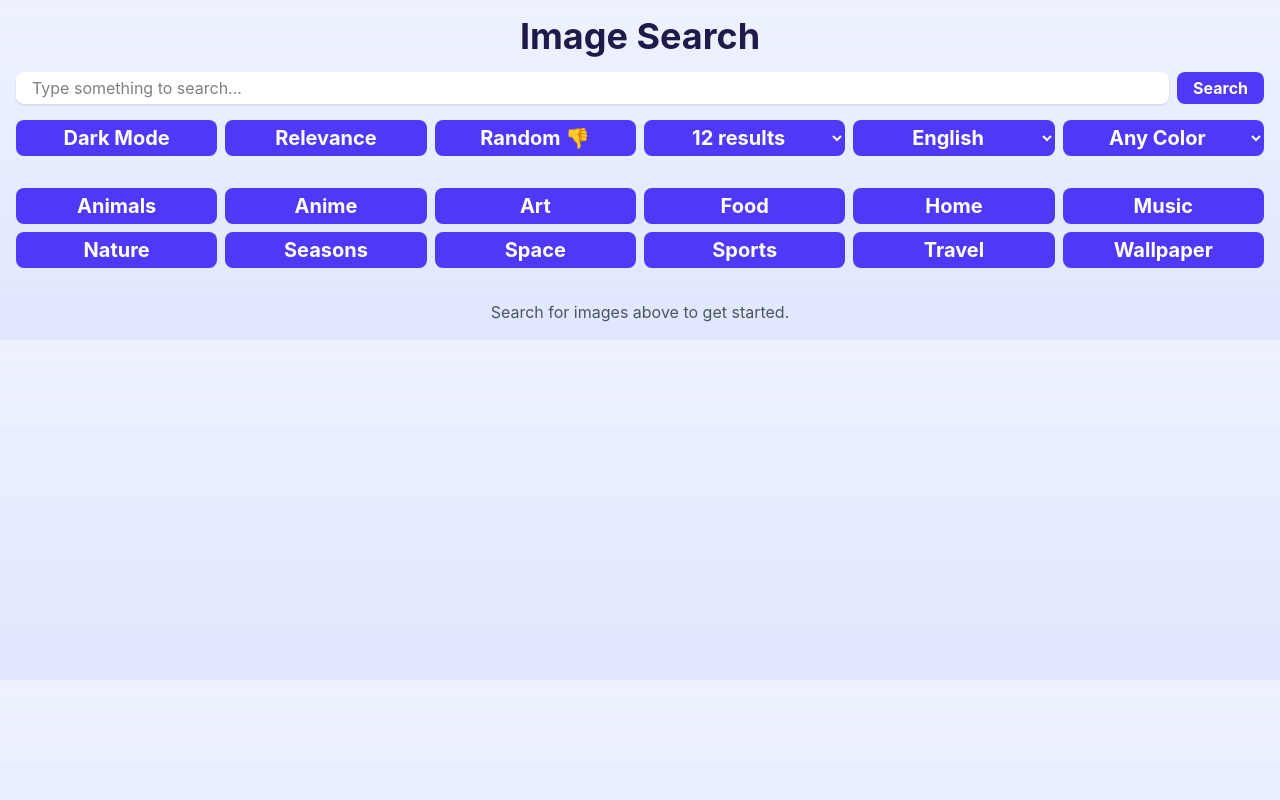
Test: Home page integration › shows 'Light Mode' label after clicking the dark mode toggle
Click the button "Dark Mode" at x=117, y=138, box [16,120,217,156]
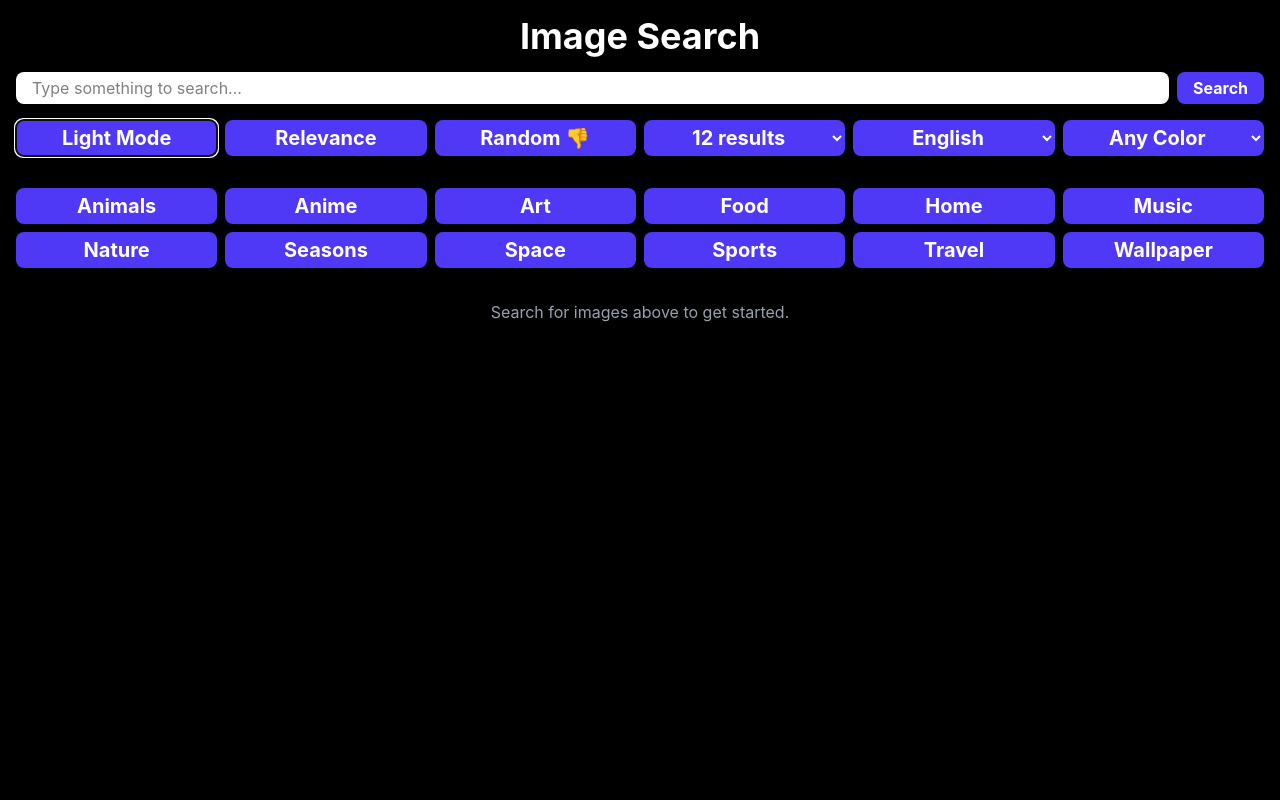
Now the button "Light Mode" is shown, box [16,120,217,156]
